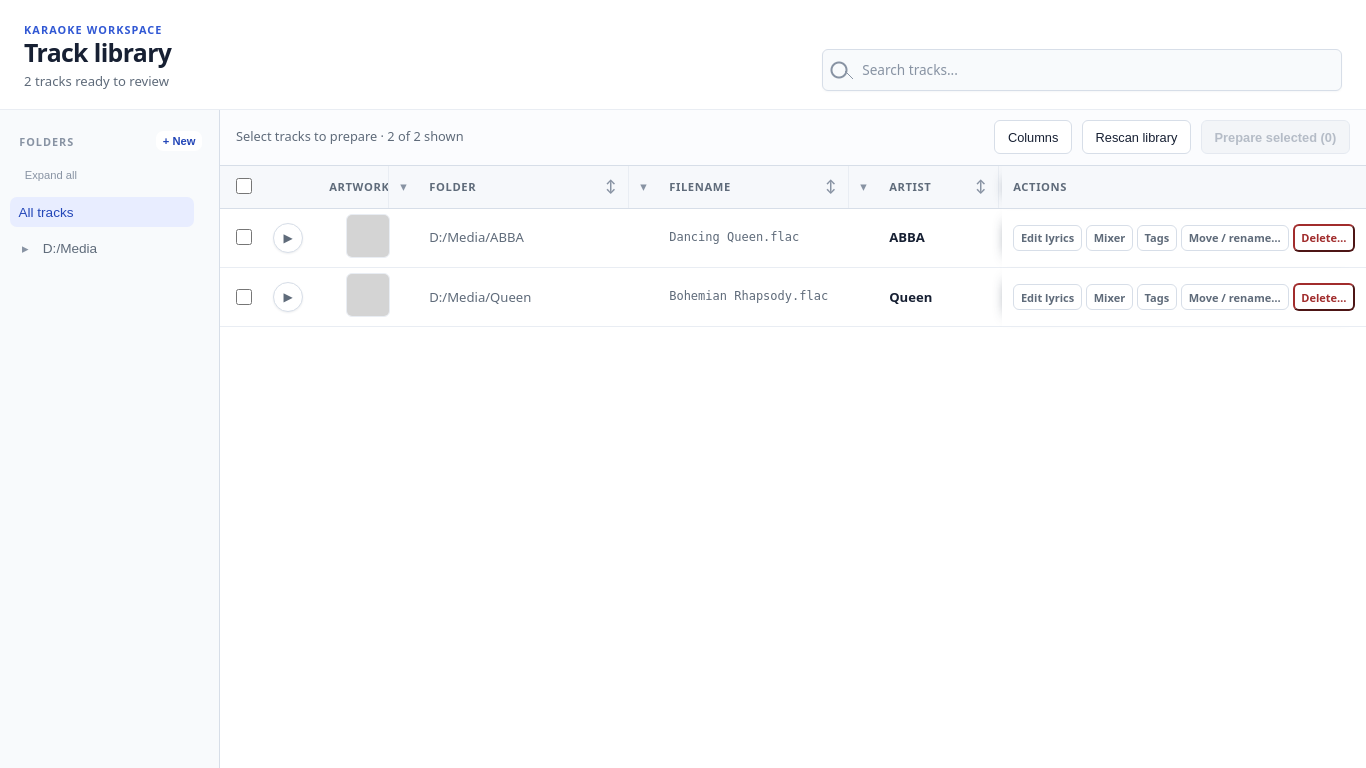
Test: Library › filters tracks to the selected folder, including Windows-style paths
Expected: the text "Dancing Queen" is shown, 1028,209 -> 1288,268
Click the button named "Expand D:/Media" at {"x": 25, "y": 248}, box 12,233 -> 38,263
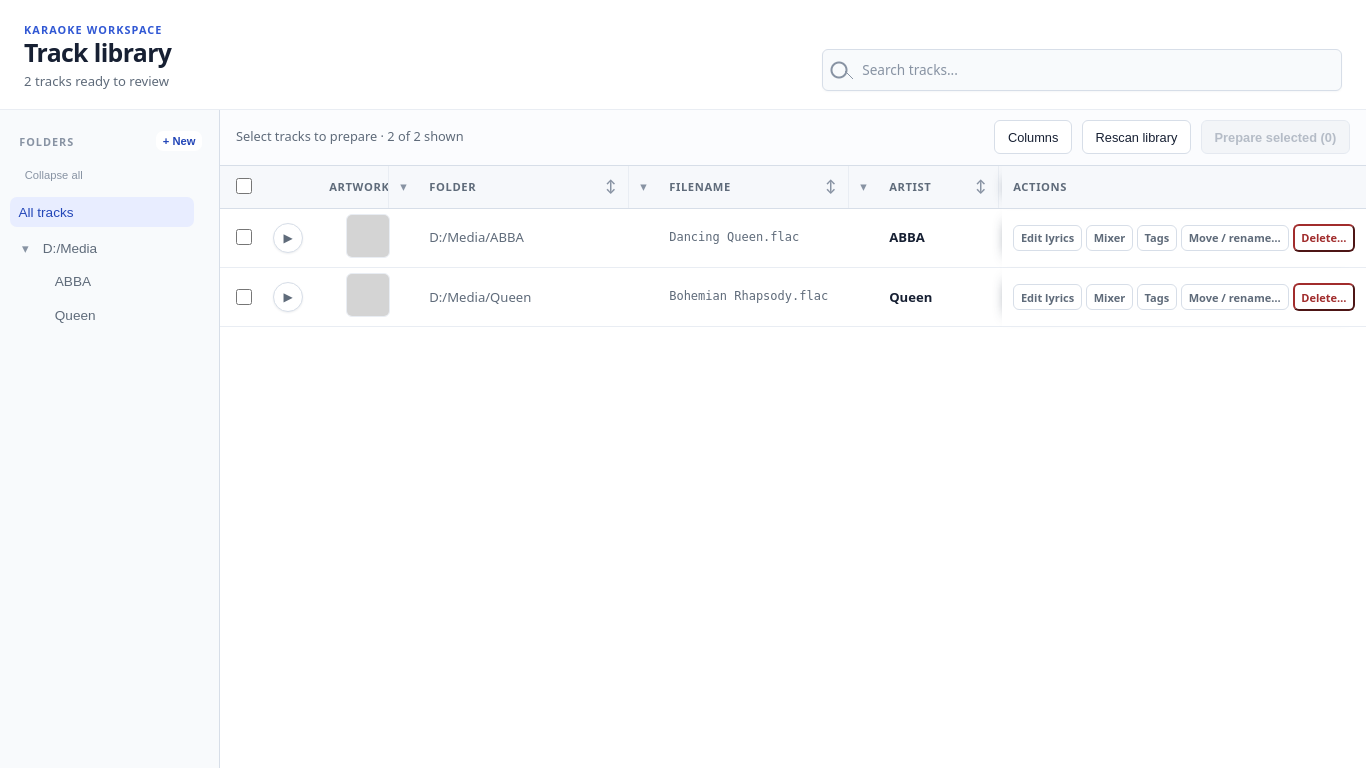
Click the button "ABBA" at {"x": 122, "y": 282}, box 50,267 -> 194,297
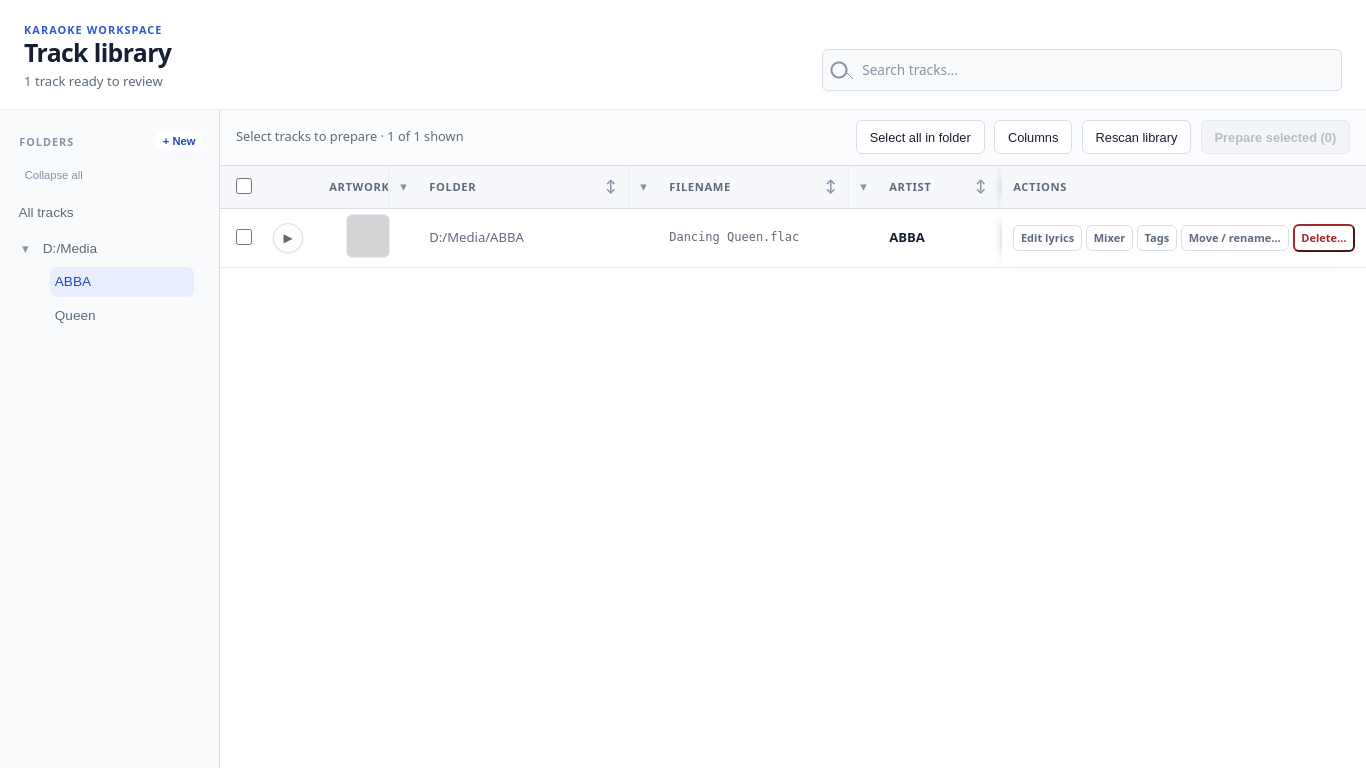
Expected: the text "Dancing Queen" is shown, 1028,209 -> 1288,268
Now the text "Bohemian Rhapsody" is gone
